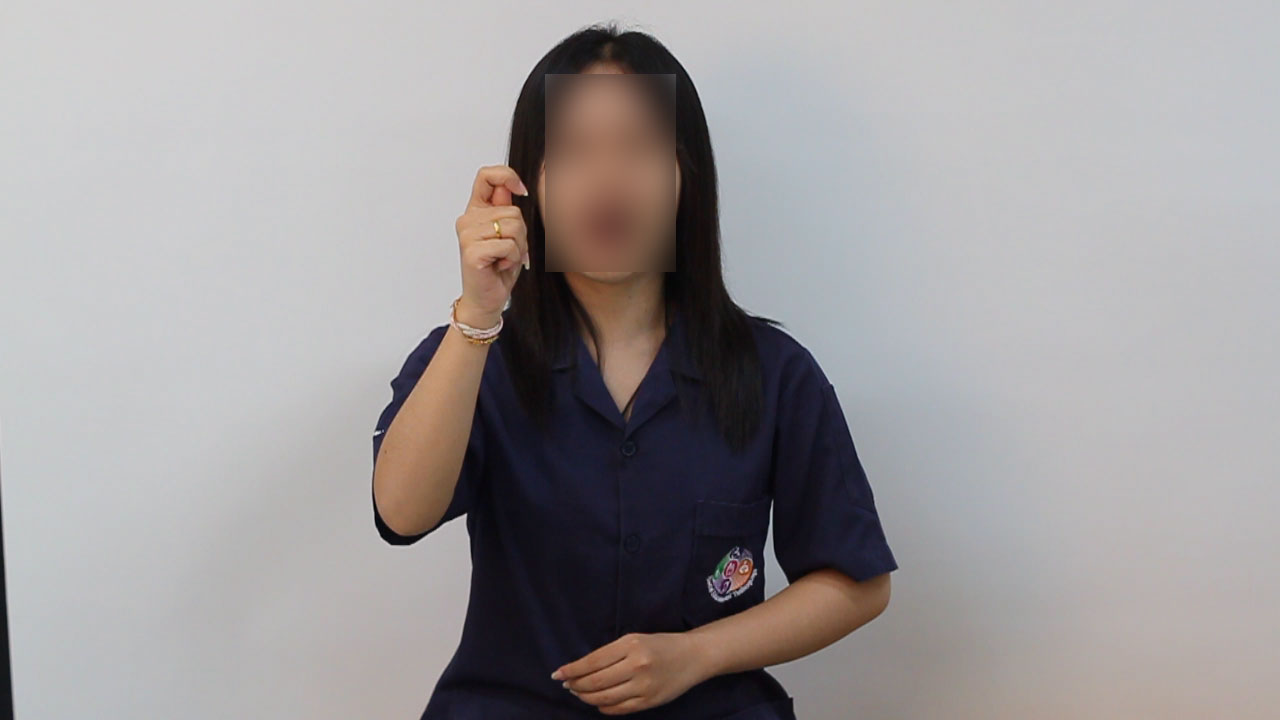or: (448, 163, 539, 321)
